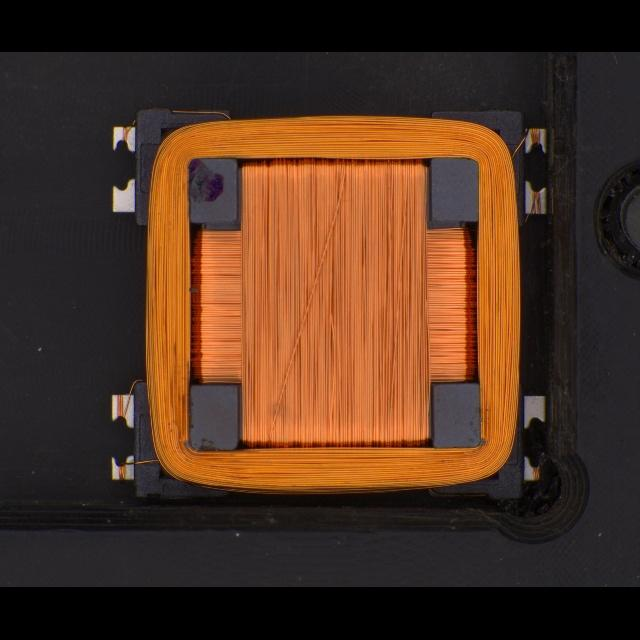Winding_Z: (119, 108, 526, 498)
